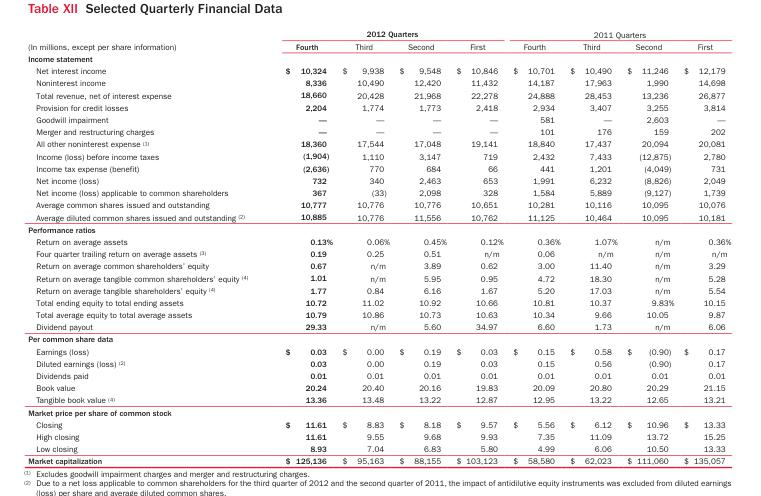table: (27, 28, 730, 465)
table column: (27, 28, 265, 465), (265, 28, 336, 465), (336, 28, 393, 465), (393, 28, 450, 465), (450, 28, 507, 465), (507, 28, 564, 465), (564, 28, 621, 465), (621, 28, 678, 465), (678, 28, 730, 465)
table column header: (27, 28, 730, 52)
table projected row header: (27, 52, 730, 64), (27, 222, 730, 234), (27, 332, 730, 344), (27, 405, 730, 417)
table row: (27, 39, 730, 52), (27, 100, 730, 113), (27, 173, 730, 186), (27, 234, 730, 247), (27, 295, 730, 308), (27, 356, 730, 369), (27, 417, 730, 430), (27, 52, 730, 64), (27, 64, 730, 76), (27, 76, 730, 88), (27, 88, 730, 100), (27, 113, 730, 125), (27, 125, 730, 137), (27, 137, 730, 149), (27, 149, 730, 161), (27, 161, 730, 173), (27, 186, 730, 198), (27, 198, 730, 210), (27, 210, 730, 222), (27, 222, 730, 234), (27, 247, 730, 259), (27, 259, 730, 271), (27, 271, 730, 283), (27, 283, 730, 295), (27, 308, 730, 320), (27, 320, 730, 332), (27, 332, 730, 344), (27, 344, 730, 356), (27, 369, 730, 381), (27, 381, 730, 393), (27, 393, 730, 405), (27, 405, 730, 417), (27, 430, 730, 442), (27, 442, 730, 454), (27, 28, 730, 39), (27, 454, 730, 465)
table spanning cell: (27, 28, 265, 52), (265, 28, 507, 39), (507, 28, 730, 39)
